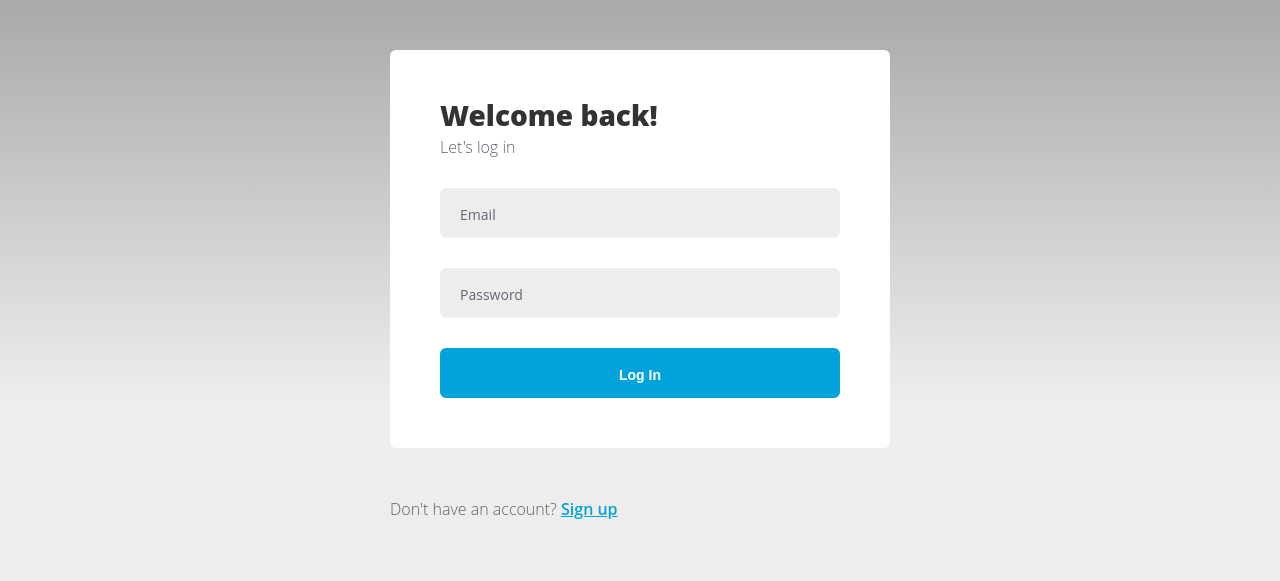
Test: Login › should display form validation errors
In the field named "Email": (640,213) [440,188,840,238], type "celinetest.com"
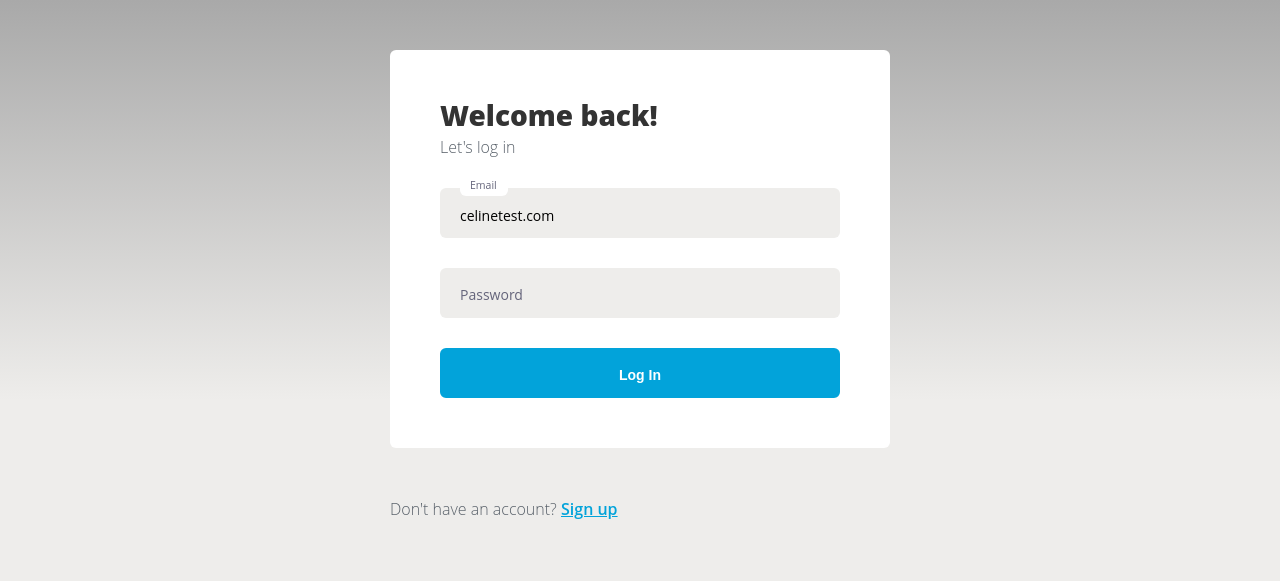
In the password field named "Password": (640,293) [440,268,840,318], type "abc45"
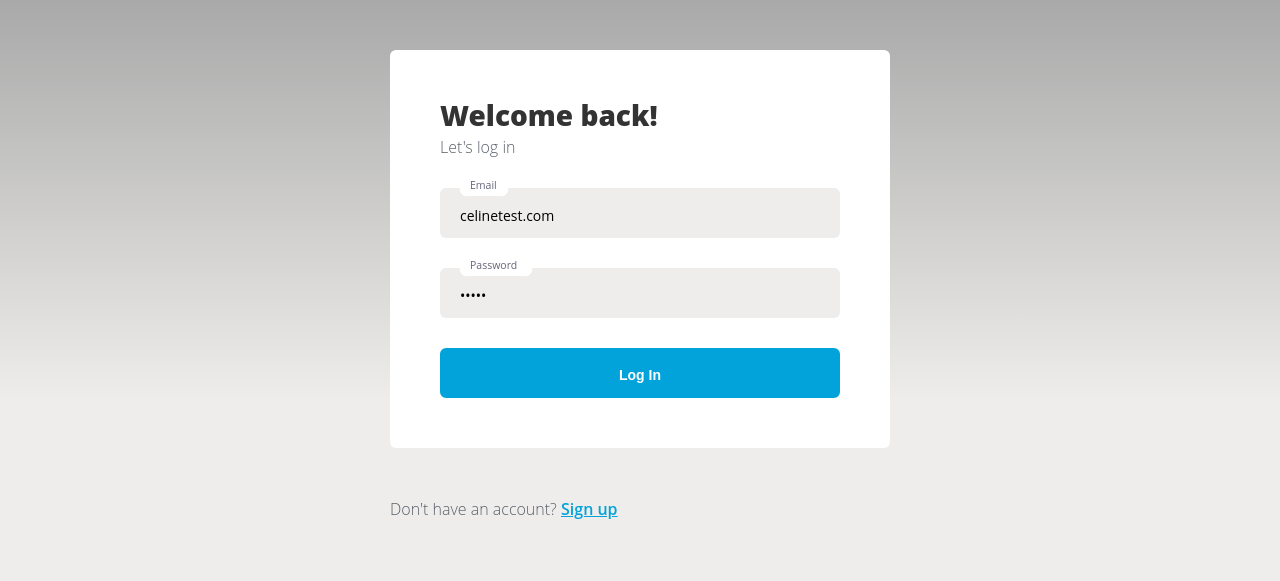
Click the button "Log In": (640,373) [440,348,840,398]
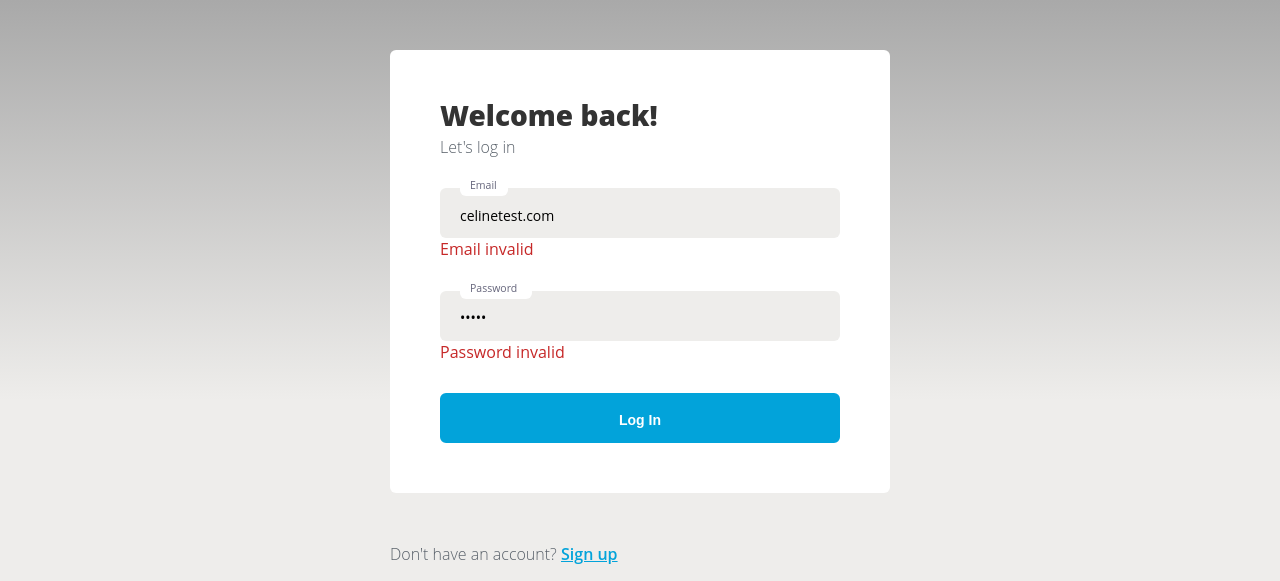
Expected: the text "Email invalid" is shown, [440,238,534,260]
Expected: the text "Password invalid" is shown, [440,341,565,363]
